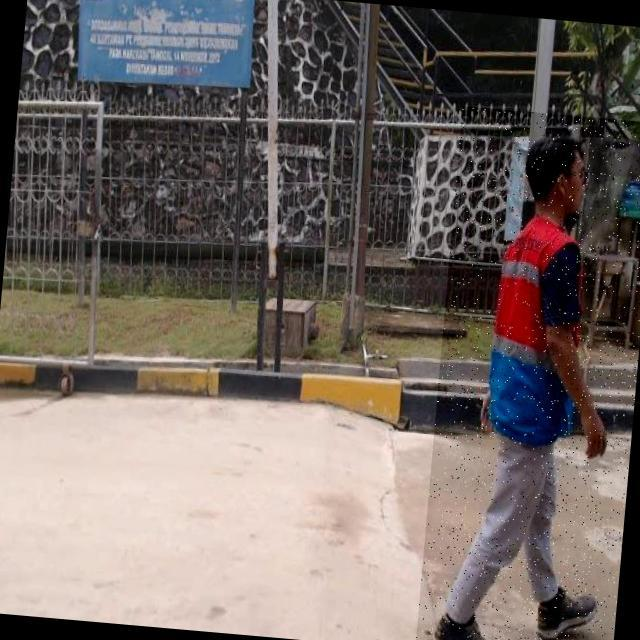Human: (414, 105, 640, 640)
Safety Boot: (531, 585, 598, 640), (425, 606, 506, 640)
Safety Vest: (482, 213, 595, 449)
